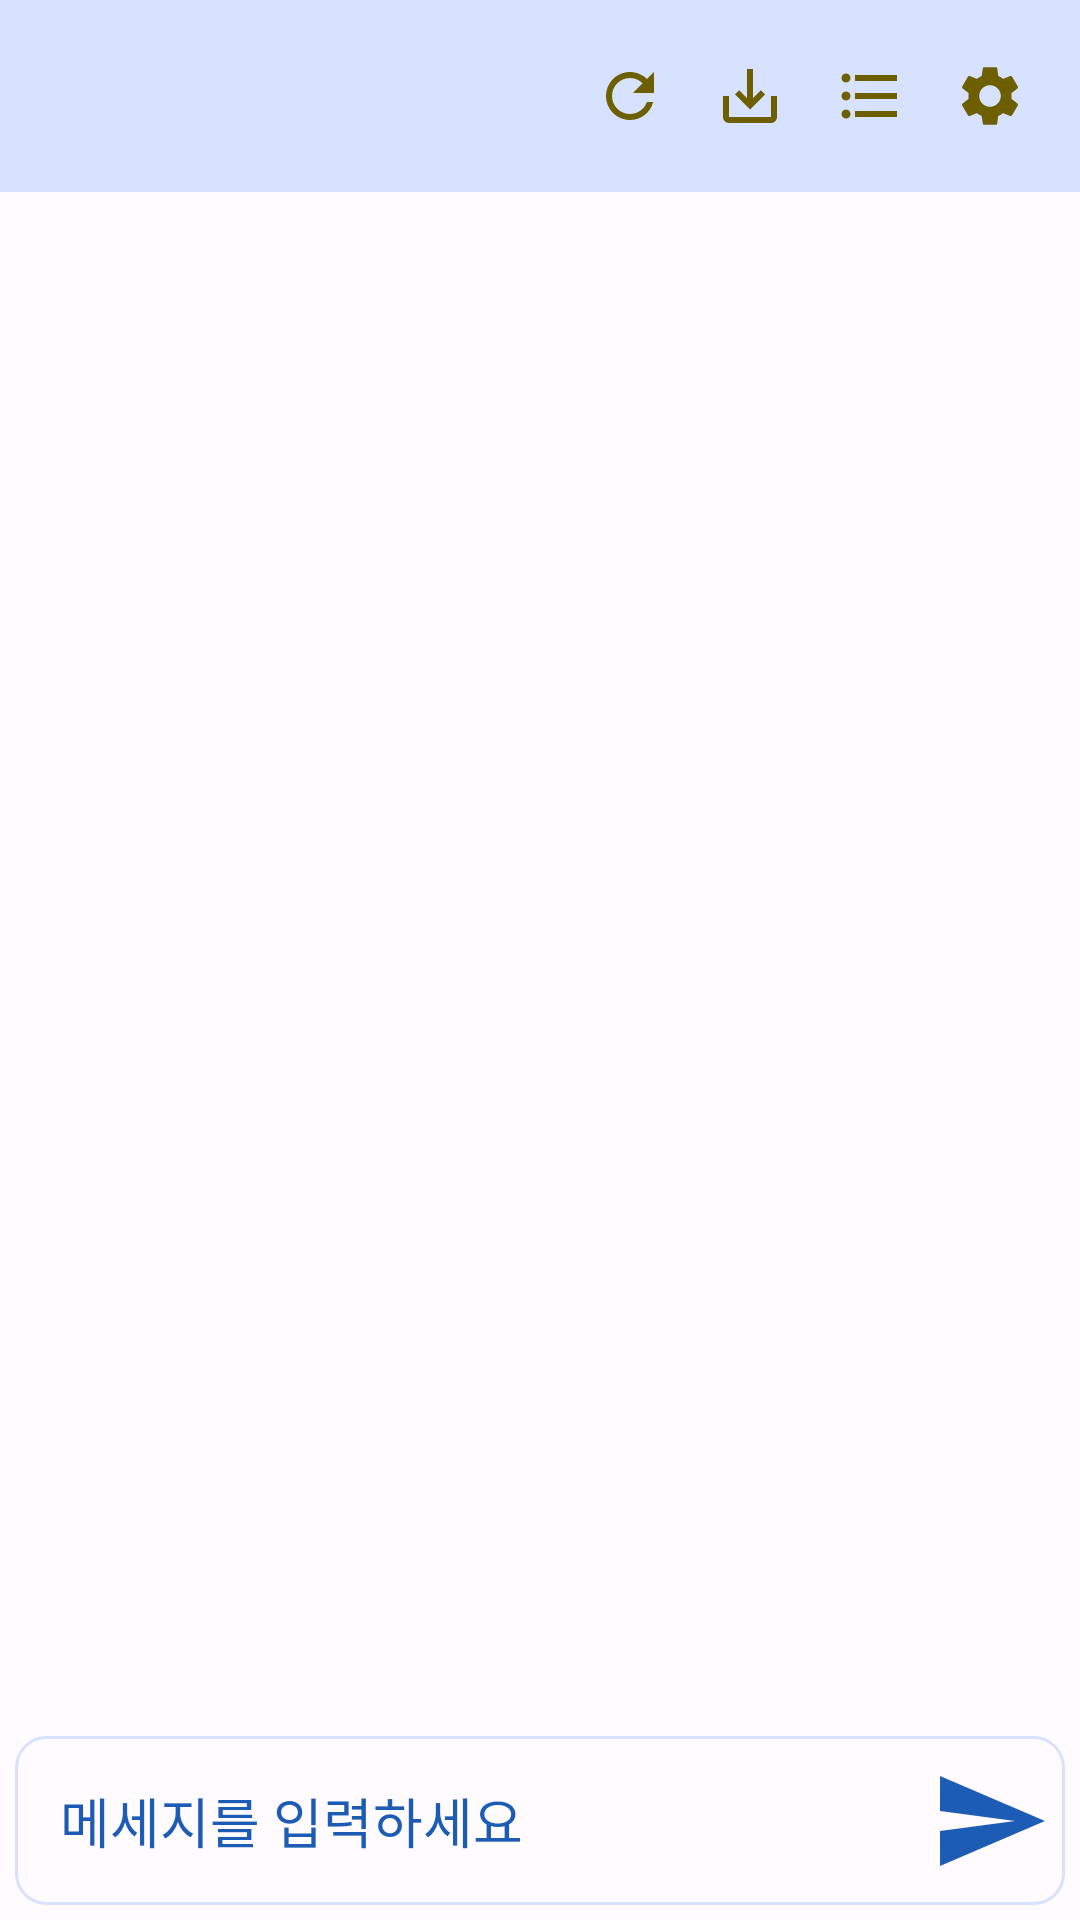

Screen size 1080px x 1920px. Icon name, then its box in pixels as box(x1, y1, x2, y2):
format list bulleted: box(841, 73, 897, 119)
refresh: box(606, 72, 654, 120)
save: box(723, 69, 777, 123)
send: box(940, 1776, 1045, 1866)
settings: box(962, 67, 1018, 125)
